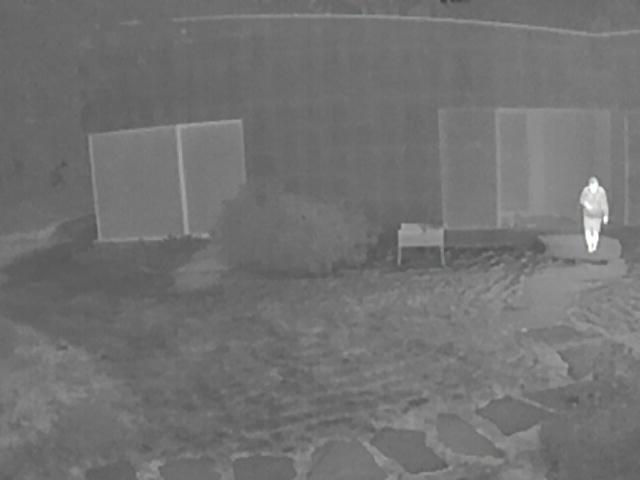person: (581, 176, 609, 255)
